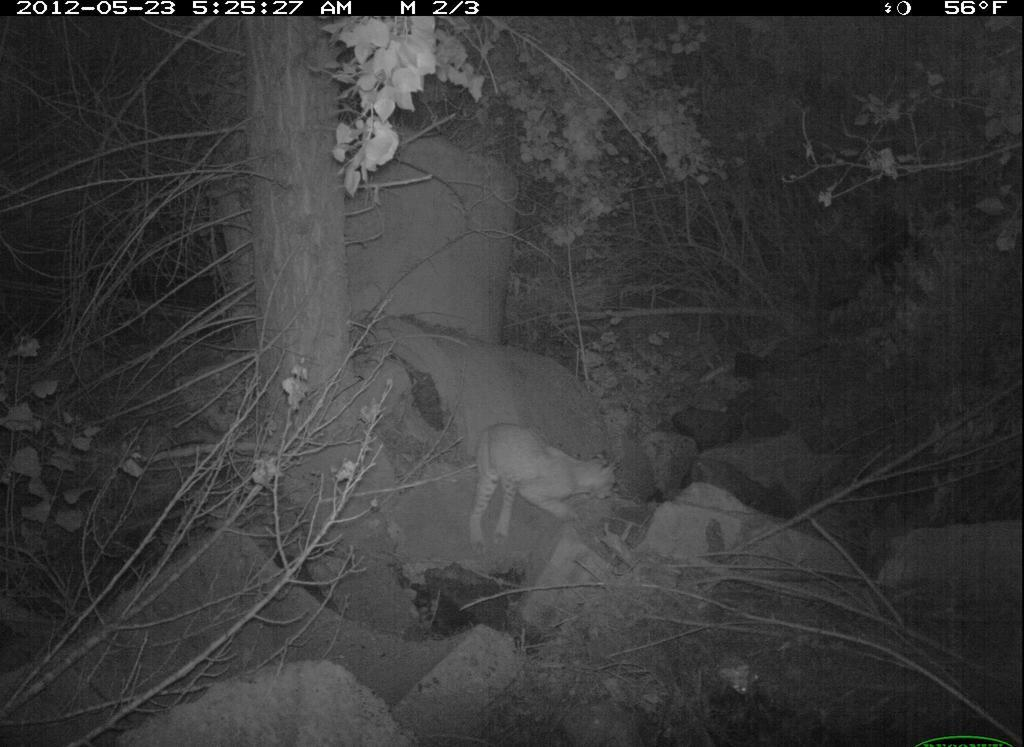bobcat: (461, 418, 623, 551)
